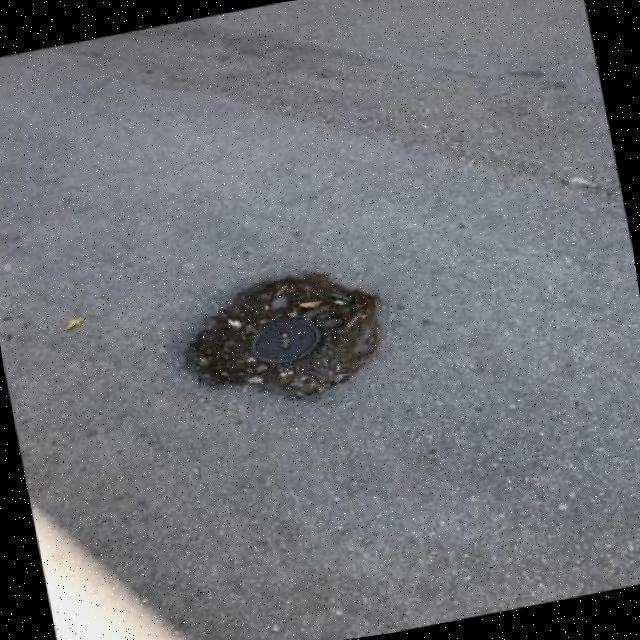Pothole: (185, 274, 383, 402)
